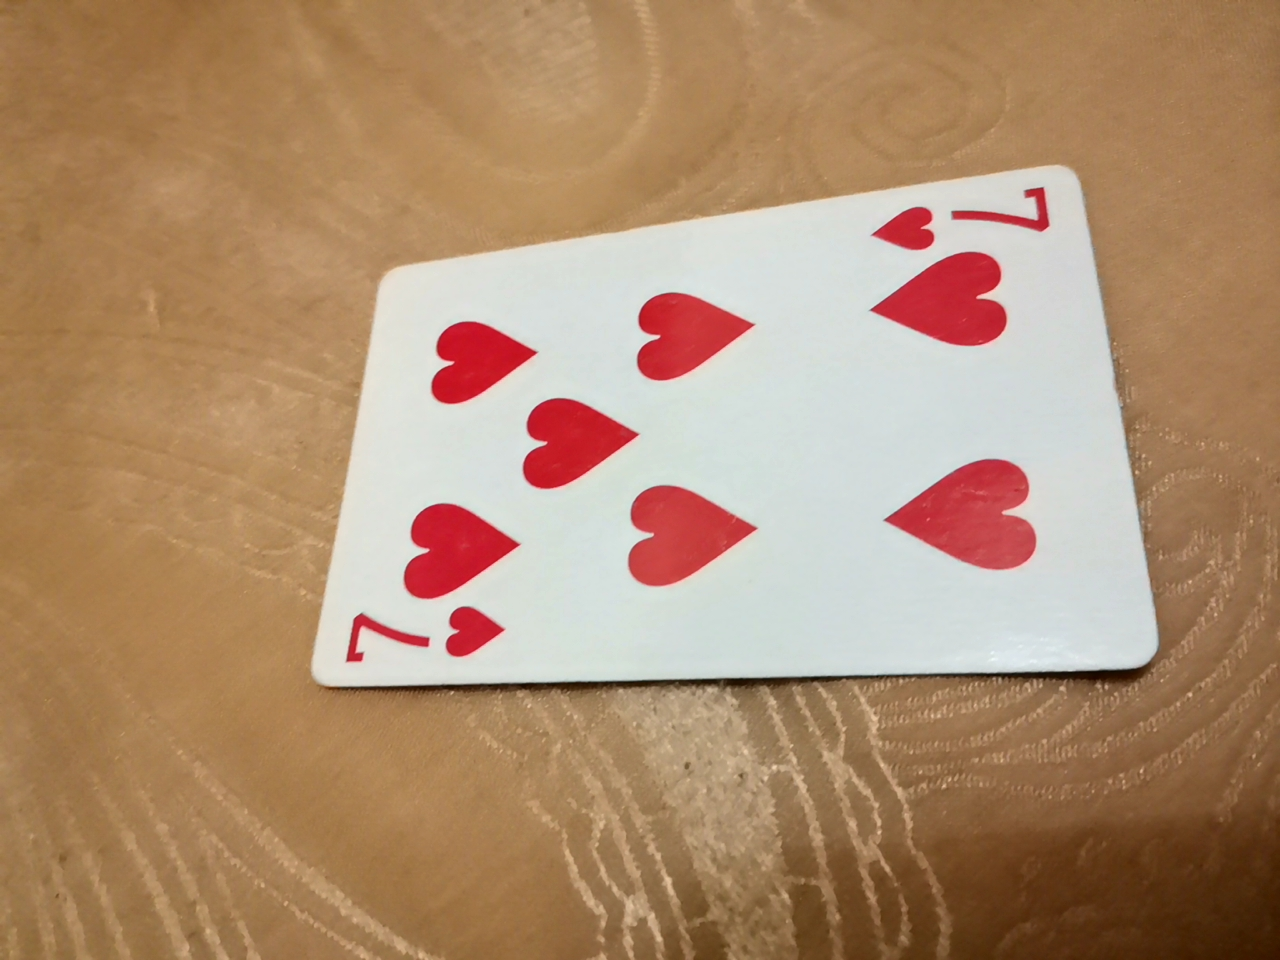hx 7: (309, 170, 1153, 713)
